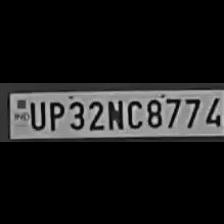2: (86, 97, 104, 129)
3: (65, 97, 84, 129)
4: (200, 94, 222, 126)
7: (181, 94, 199, 128), (164, 94, 181, 128)
8: (144, 96, 162, 128)
C: (124, 96, 142, 128)
N: (104, 96, 124, 128)
P: (46, 98, 64, 130)
U: (27, 97, 45, 128)
